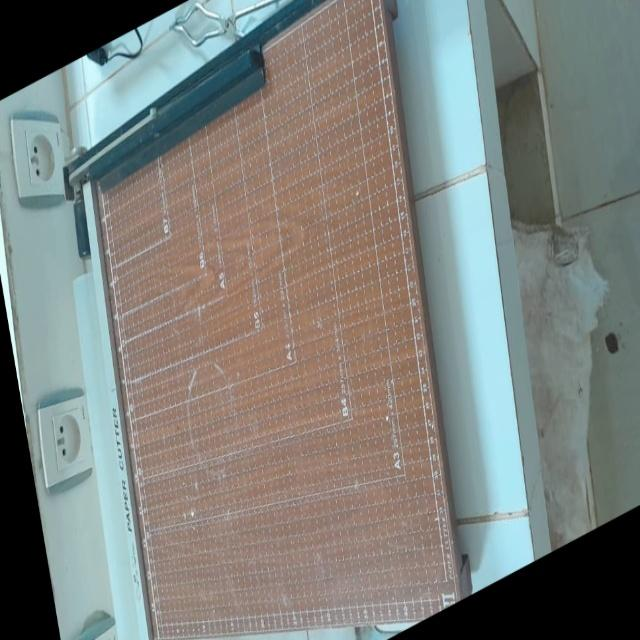TLC Cutter: (41, 0, 624, 640)
